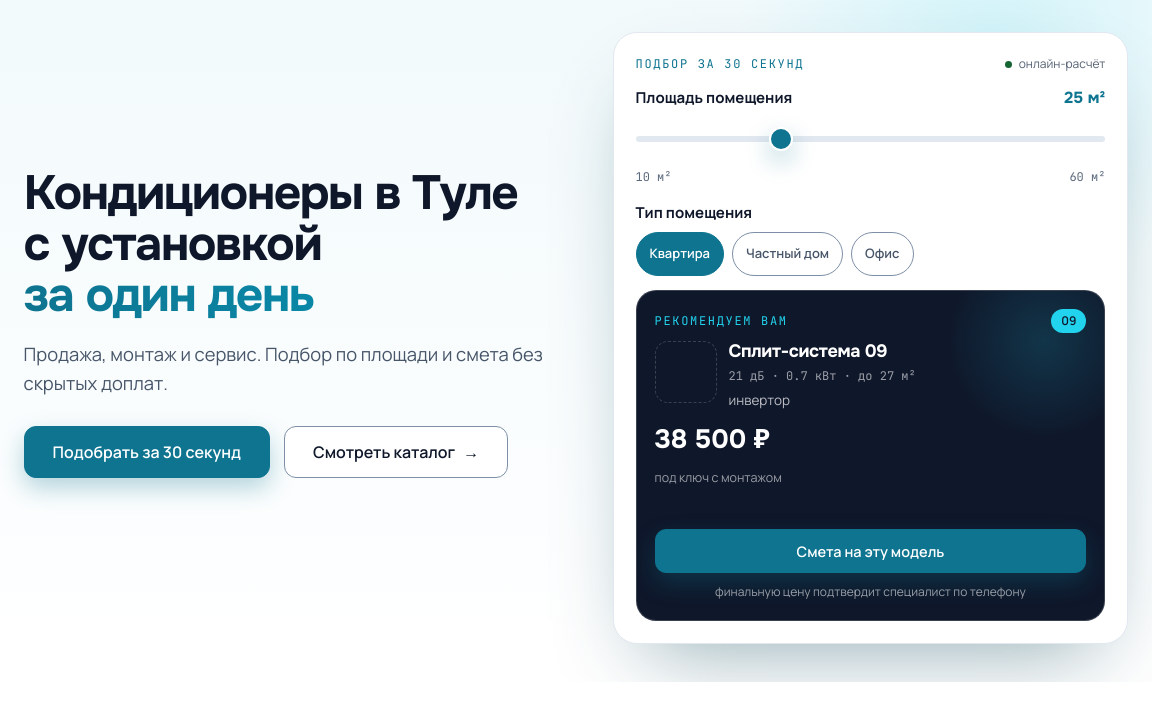
Test: Первый экран › «Офис» сдвигает подбор на класс выше: техника и люди греют помещение
Check: the heading "Сплит-система 09" is shown, box [728, 340, 887, 362]
Click the button "Офис": [882, 254] box [851, 232, 914, 276]
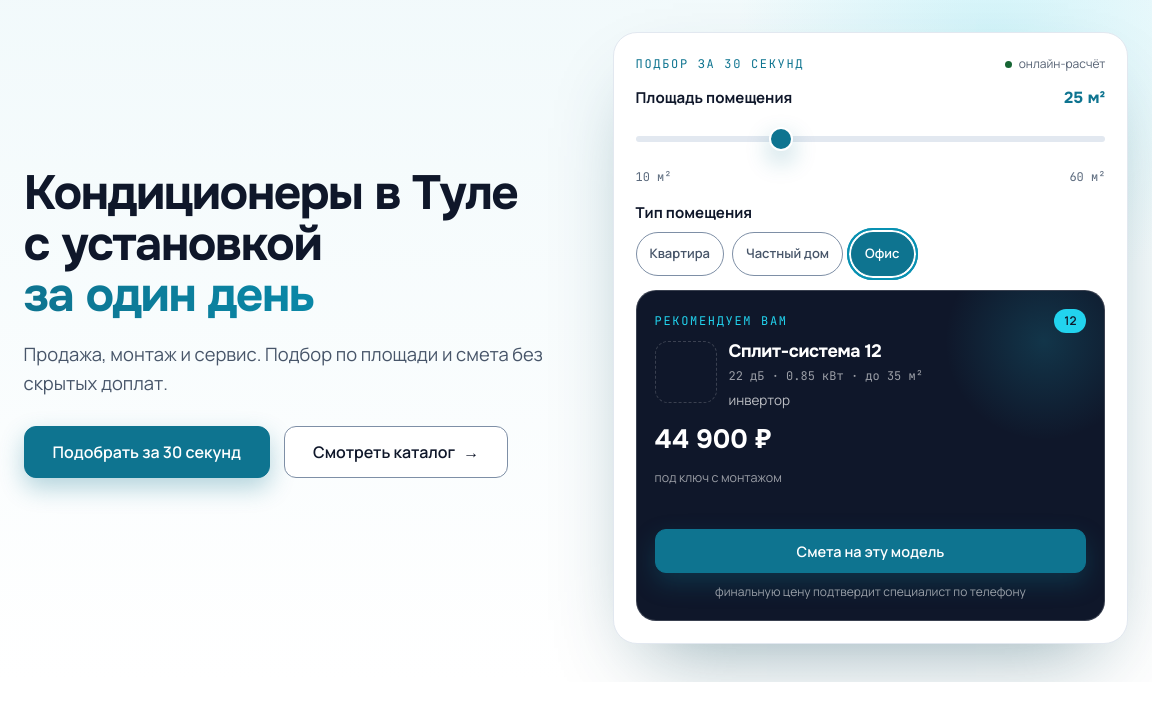
Check: the heading "Сплит-система 12" is shown, box [728, 340, 881, 362]
